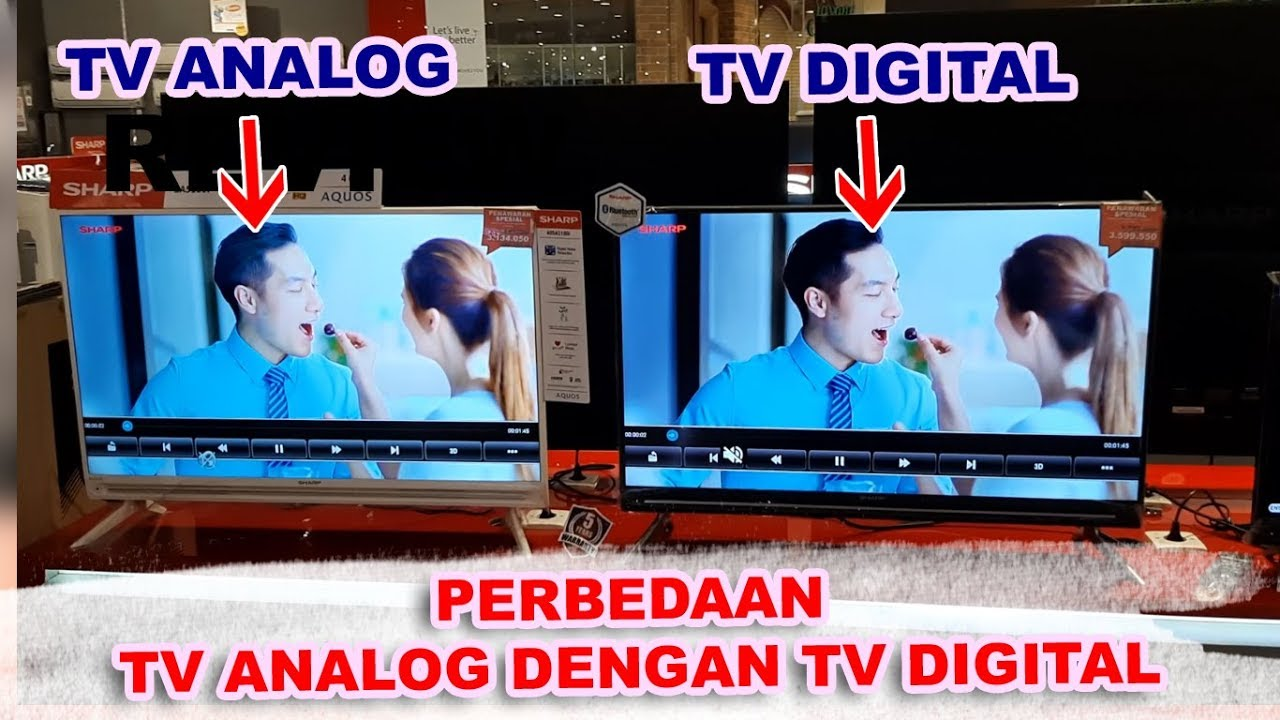tv: (590, 201, 1163, 554), (39, 203, 596, 521)
